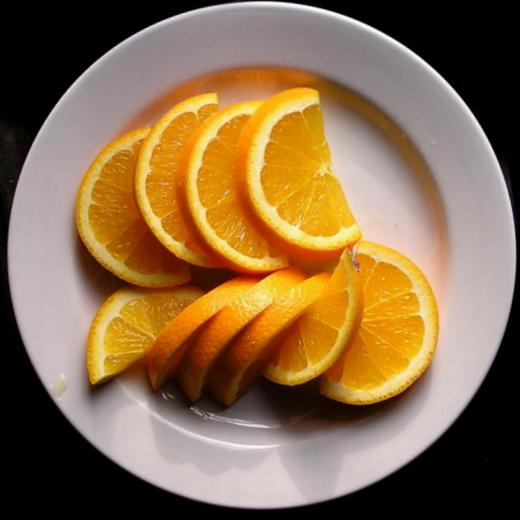Grape: (292, 232, 454, 416), (228, 84, 366, 268), (64, 123, 194, 305), (163, 268, 321, 404), (173, 100, 290, 278), (200, 267, 346, 406), (126, 92, 232, 276), (249, 254, 374, 381), (78, 279, 214, 389), (138, 283, 271, 387)
